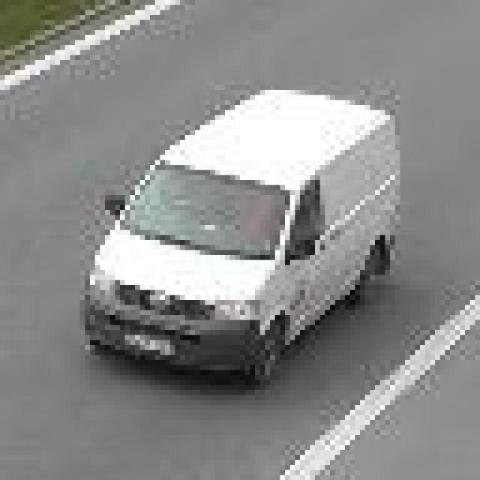van: (90, 88, 401, 388)
